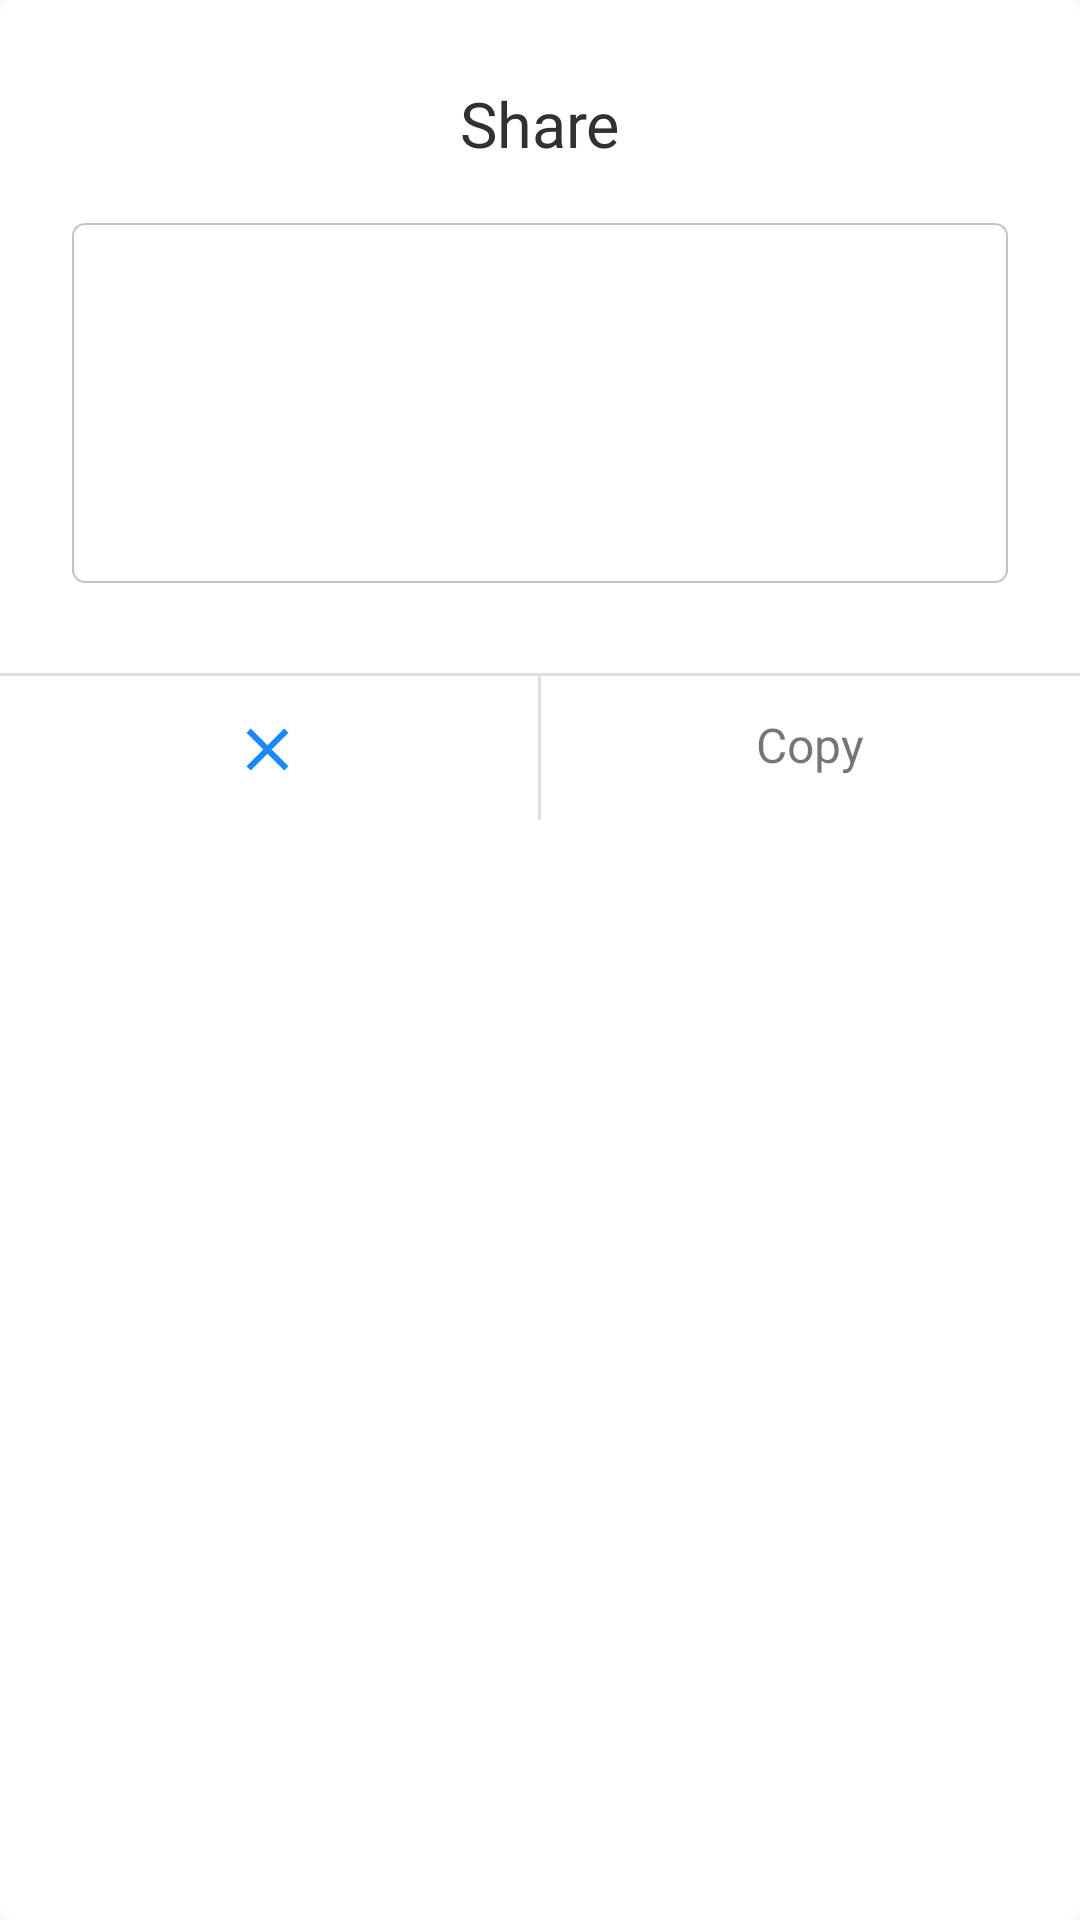

Screen size 1080x1920. Icon name, then its center in pixels as [x,y]:
cancel: [267,749]
